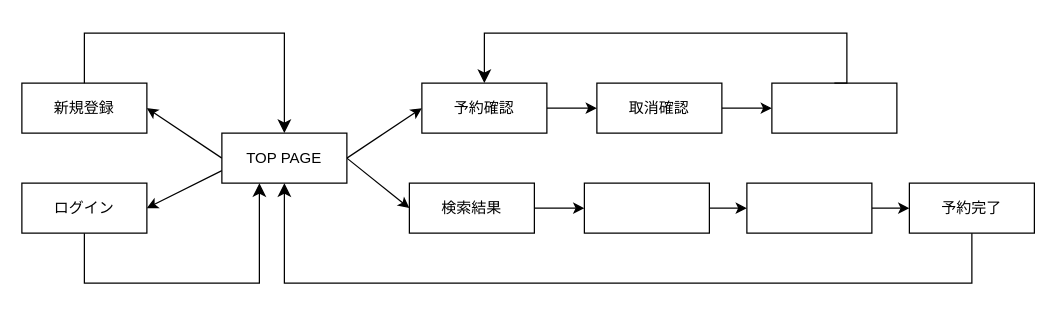
The diagram is 1056 pixels wide and 318 high, and some of its shapes have lost their labels. Each missing label, with the centre of its shape:
"プラン詳細" goes at pixel 646 207.
"予約前確認ページ" goes at pixel 809 207.
"取消完了" goes at pixel 834 107.
